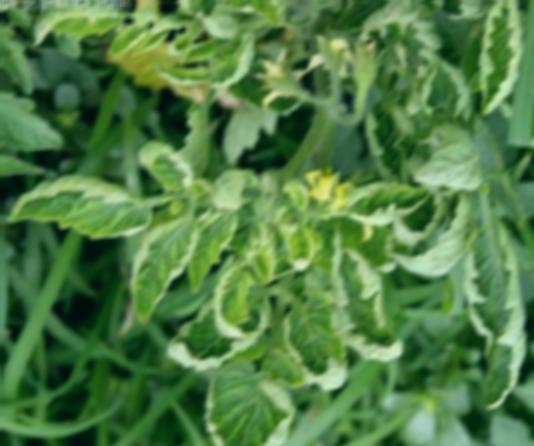Tomato leaf yellow virus: (319, 243, 417, 374), (0, 166, 164, 244), (163, 265, 274, 377), (209, 317, 295, 446), (121, 212, 207, 325), (277, 286, 358, 397), (466, 0, 524, 113), (336, 182, 433, 223), (280, 211, 316, 268)
